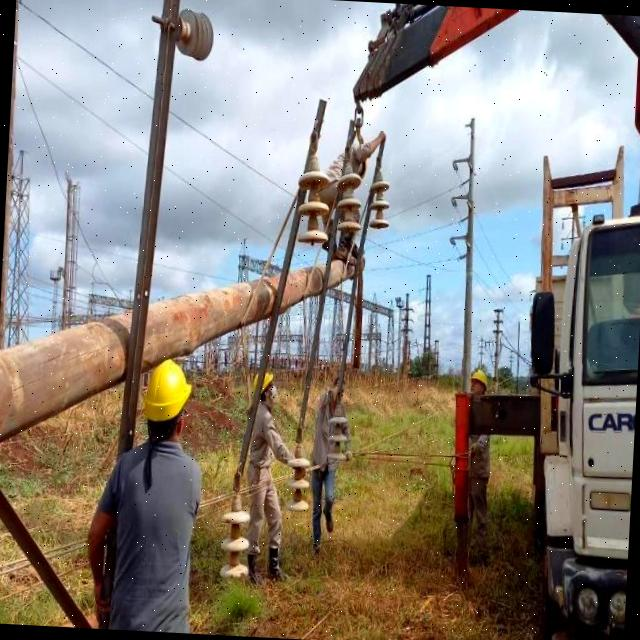Broken Pole: (0, 0, 388, 580)
